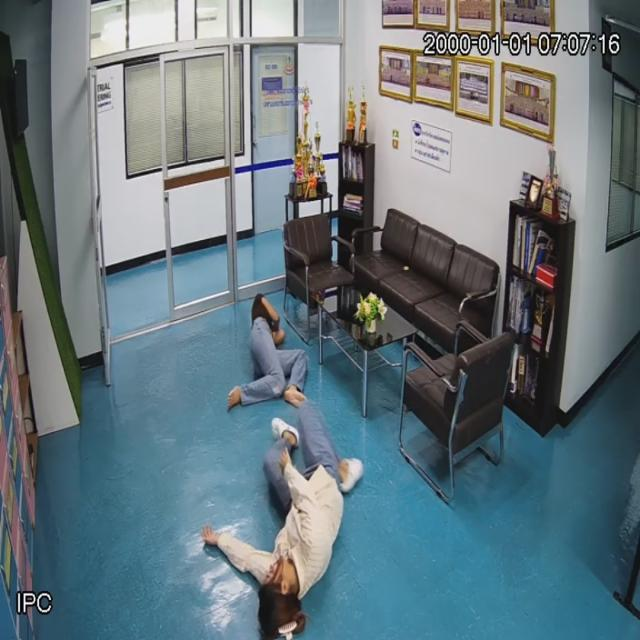fall: (226, 407, 354, 640), (231, 292, 307, 406)
